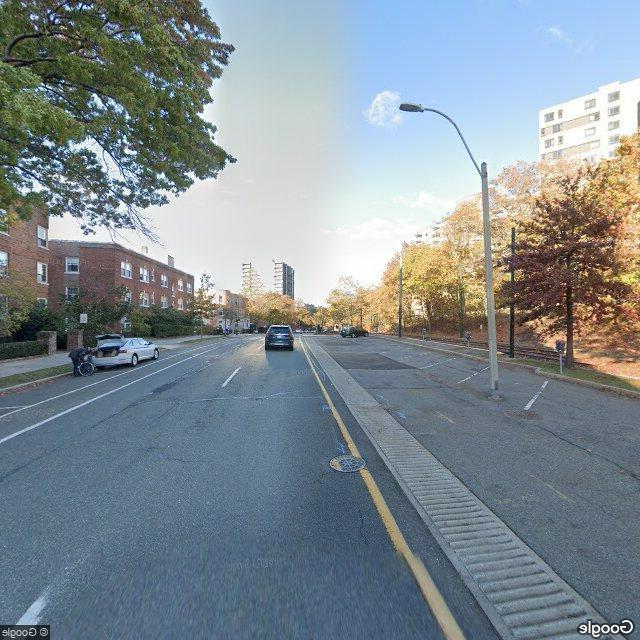pothole: (354, 502, 373, 544)
